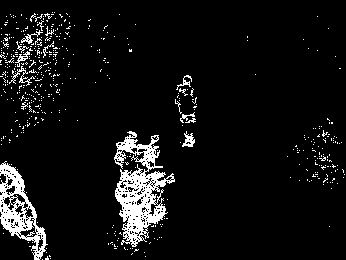person: (176, 73, 202, 151)
